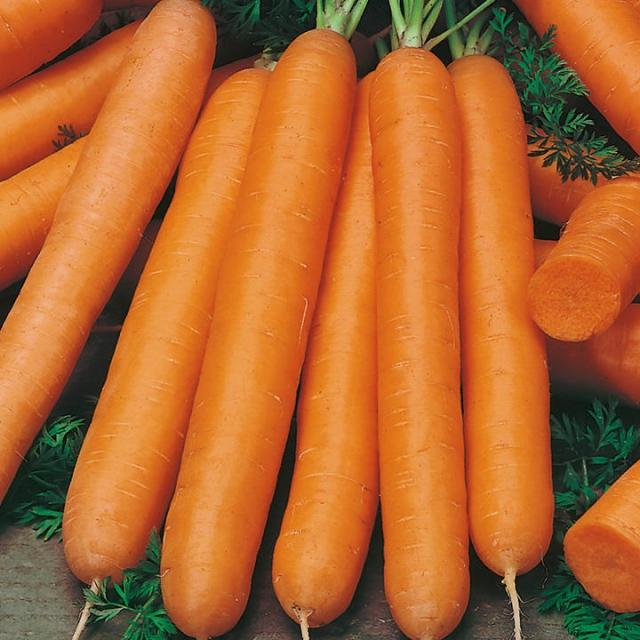carrot: (0, 0, 363, 638), (368, 0, 498, 638)
